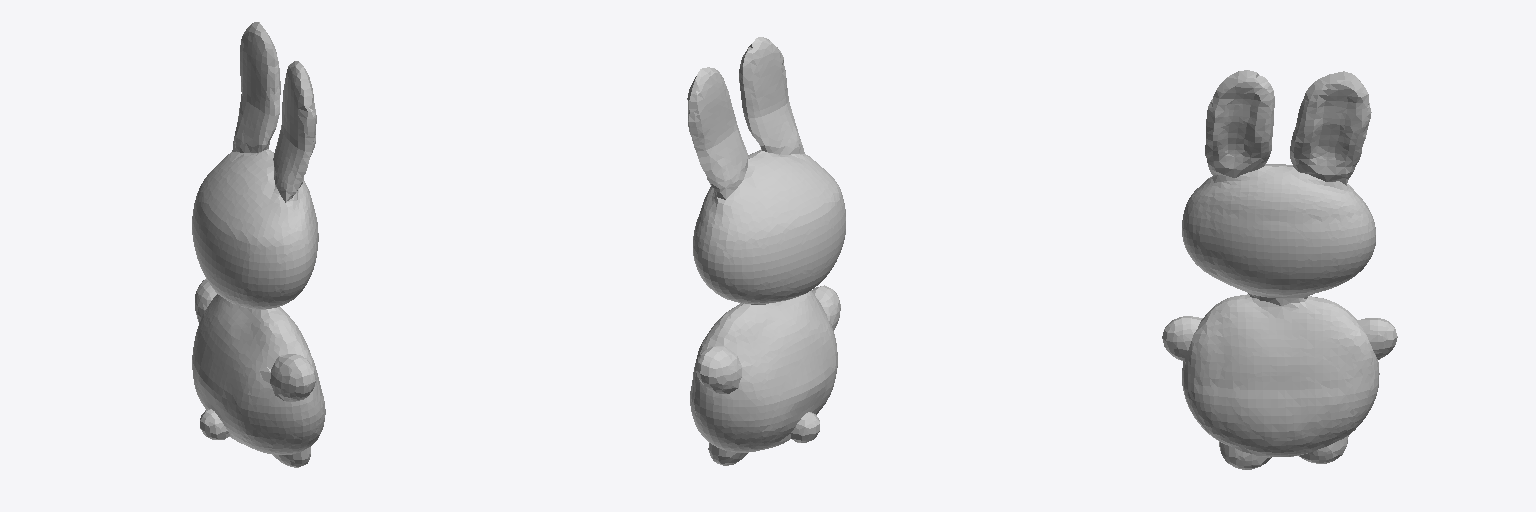
Rendered from rabbit_aug_8.obj.
3 views of the same model, side by side, from view 1: azimuth 30°, elevation 25°; view 2: azimuth 150°, elevation 25°; view 3: azimuth 270°, elevation 25° (orthographic).
Bounding box in the file's own units: 26.62 × 98.52 × 52.07.